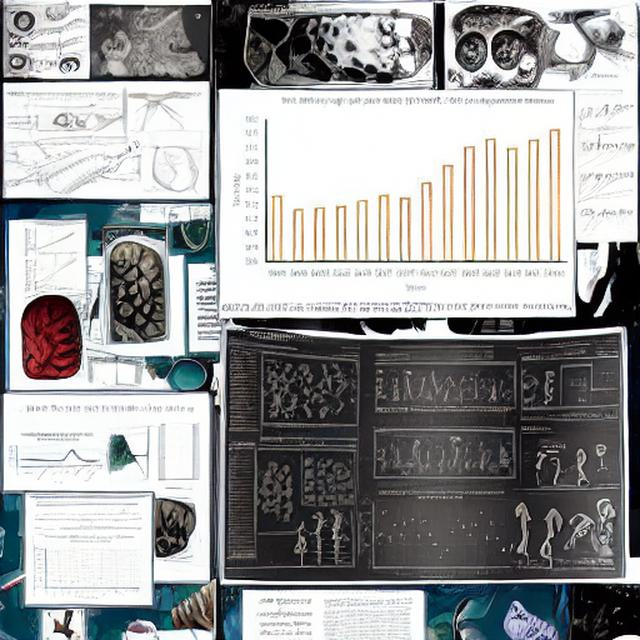Graph: (222, 92, 572, 298), (357, 488, 513, 581), (29, 533, 144, 602), (4, 431, 104, 488), (574, 127, 636, 164), (29, 222, 81, 258)
